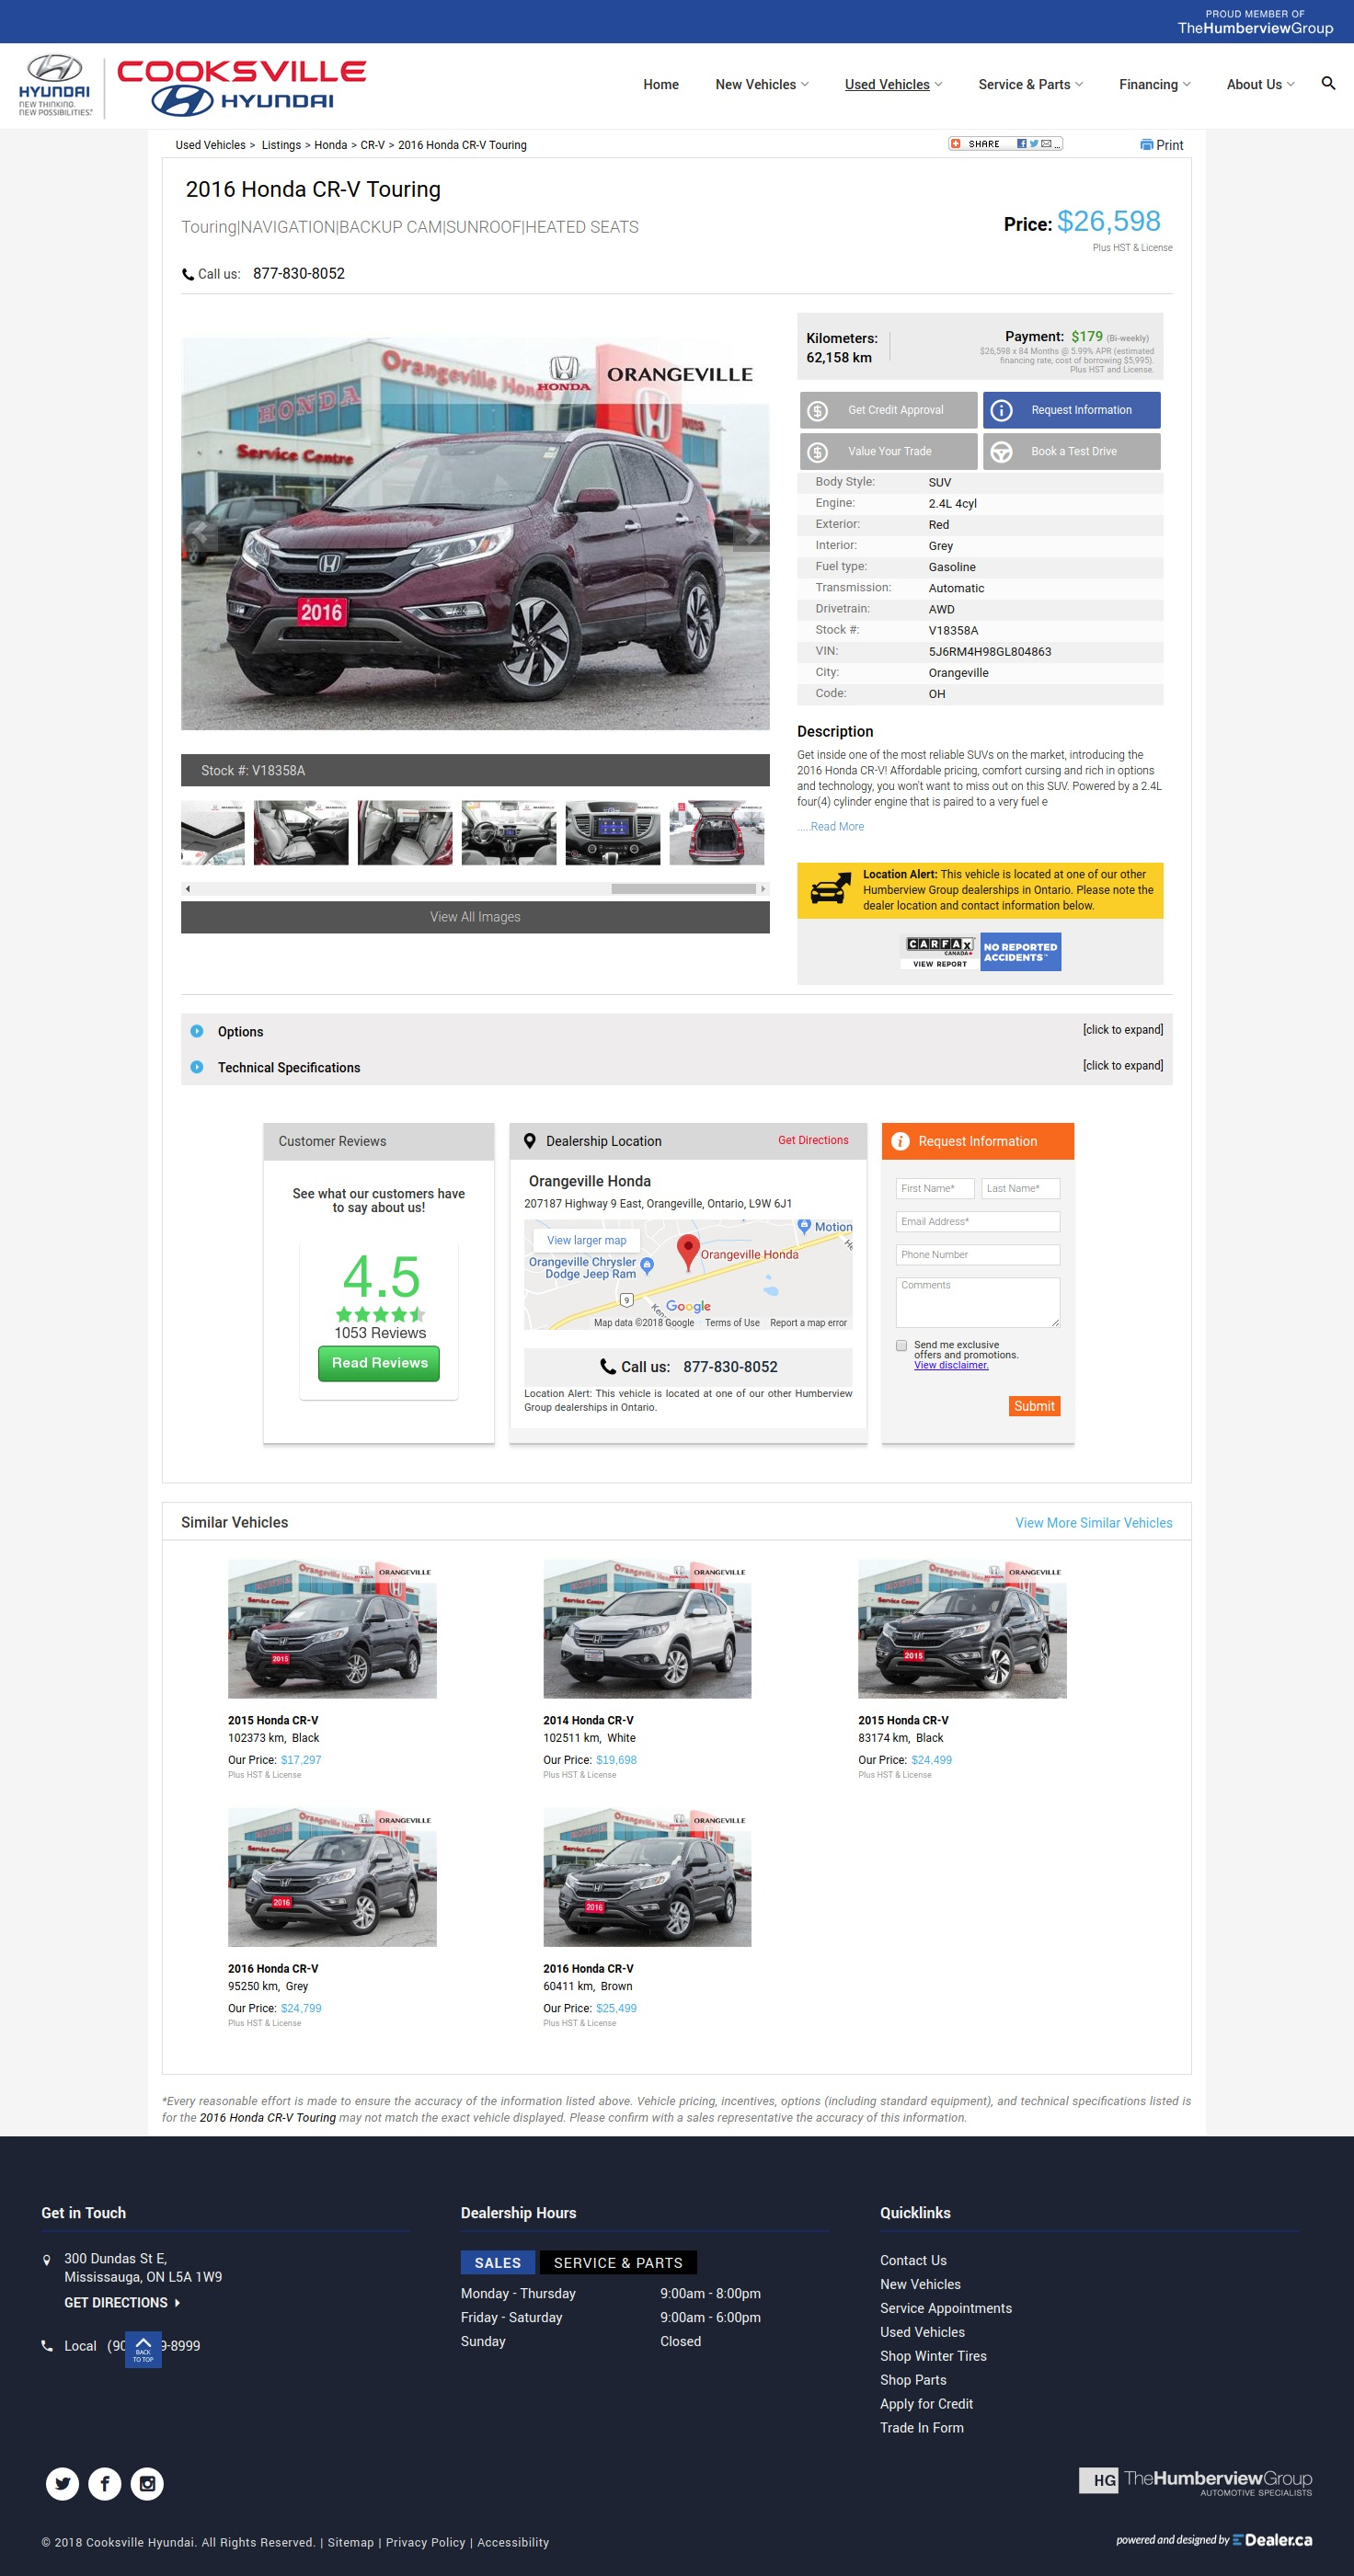car: (761, 886, 766, 894)
